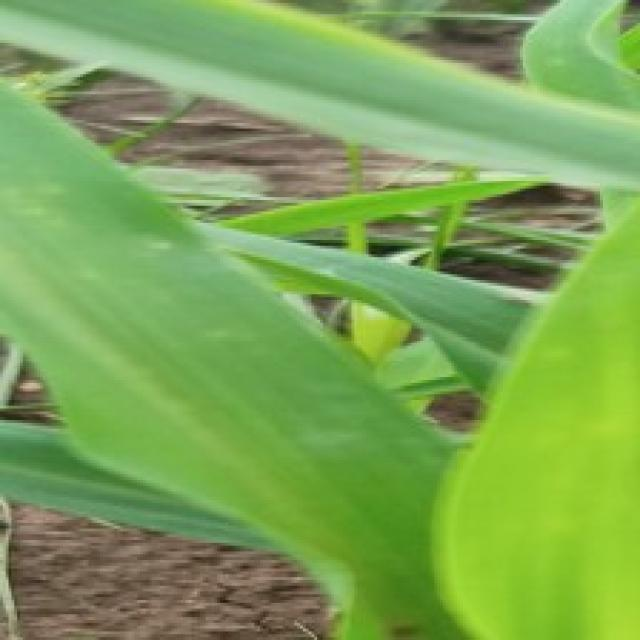Corn: (0, 0, 637, 637), (426, 0, 637, 637), (0, 0, 637, 200)
